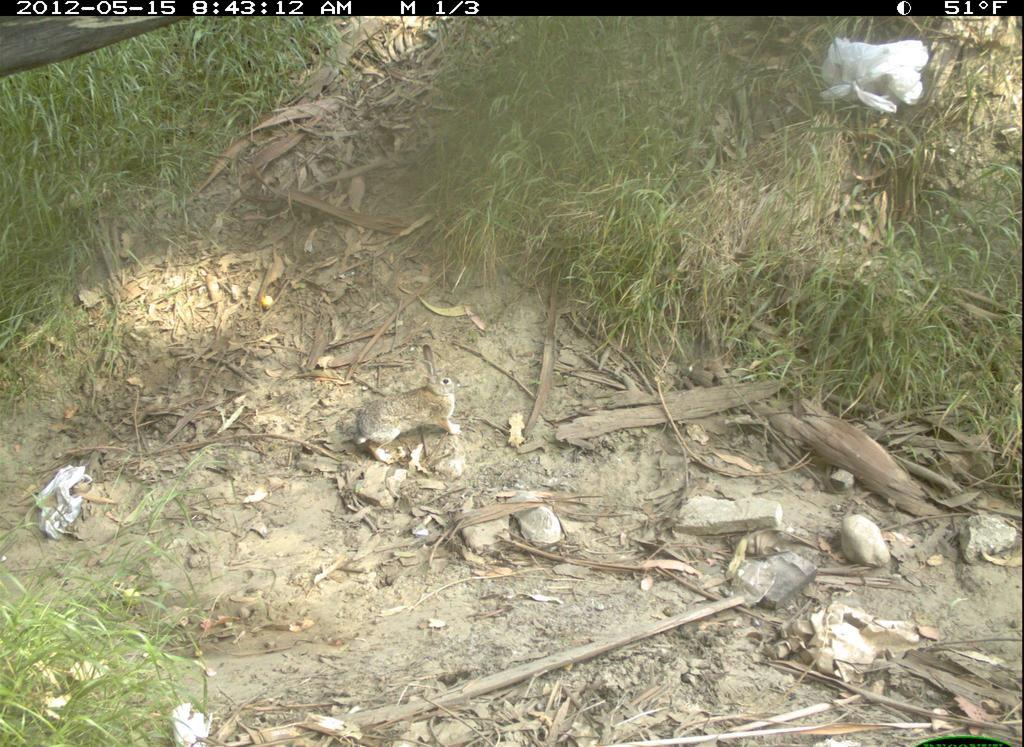rabbit: (349, 341, 473, 464)
